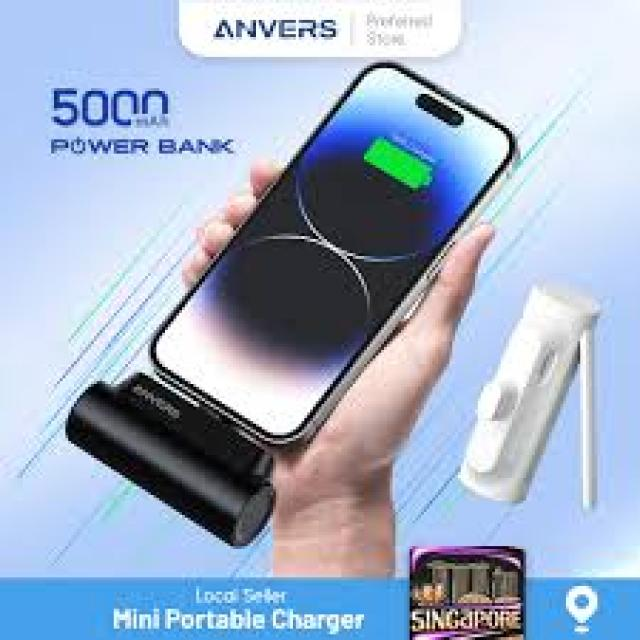portable-charger: (64, 372, 280, 551)
